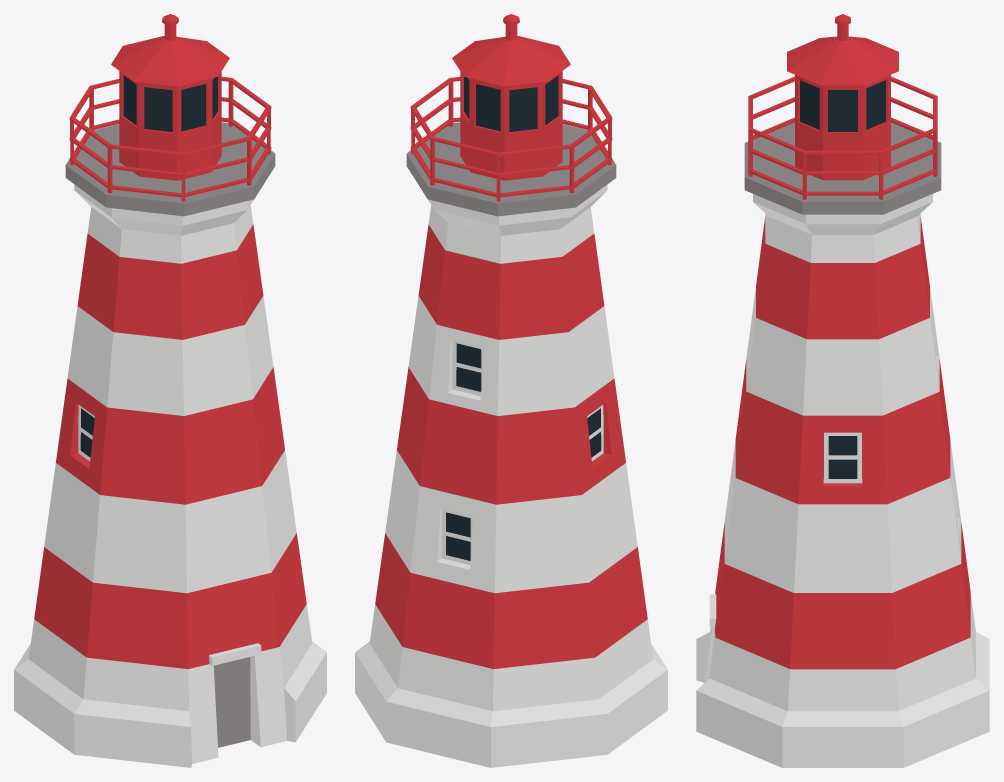
Rendered from lighthouse.glb.
3 renders of one model, left to right at view 1: azimuth 30°, elevation 25°; view 2: azimuth 150°, elevation 25°; view 3: azimuth 270°, elevation 25°, orthographic.
Visible parts, largest first — view 1: lighthouse; view 2: lighthouse; view 3: lighthouse.
Part boxes in pixels (x1,y1,x2,y2): lighthouse: (14,14,326,767); lighthouse: (355,14,667,767); lighthouse: (696,14,989,767).
Bounding box in the file's own units: 6.17 × 16.05 × 6.17.
1 material, 1 textured.
